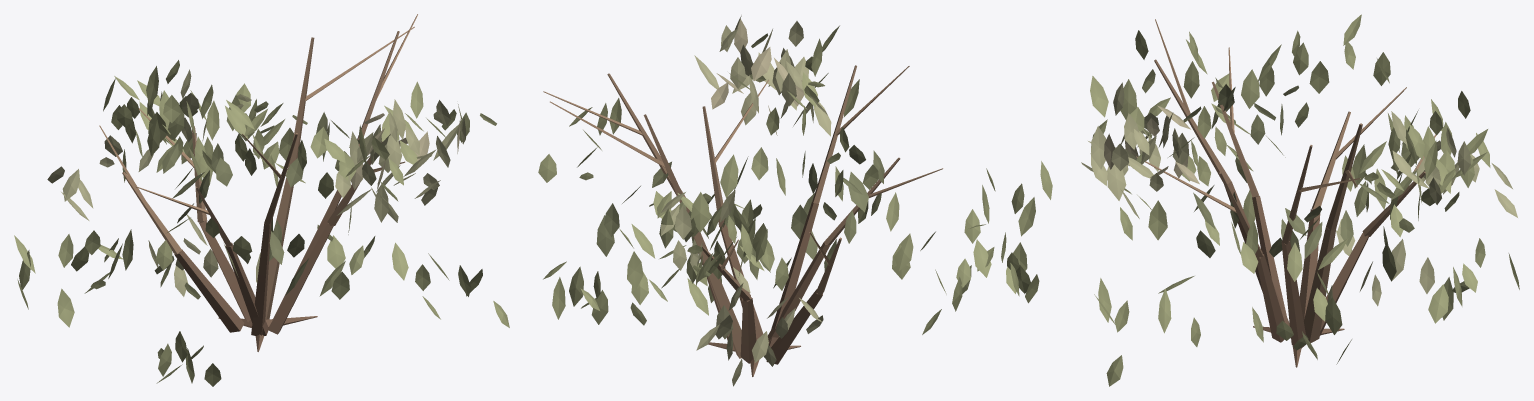
Rendered from bush_3d_06.glb.
The picture shows the model from 3 angles, left to right: view 1: azimuth 30°, elevation 25°; view 2: azimuth 150°, elevation 25°; view 3: azimuth 270°, elevation 25°; orthographic projection. The views are drawn at different scales.
Parts seen in each view (by area): view 1: bush_3d_06_foliage, bush_3d_06_wood; view 2: bush_3d_06_foliage, bush_3d_06_wood; view 3: bush_3d_06_foliage, bush_3d_06_wood.
Part boxes in pixels (x1,y1,x2,y2): bush_3d_06_foliage: (14, 60, 509, 386); bush_3d_06_wood: (99, 14, 417, 351); bush_3d_06_foliage: (538, 15, 1052, 386); bush_3d_06_wood: (543, 65, 943, 376); bush_3d_06_foliage: (1081, 14, 1519, 386); bush_3d_06_wood: (1136, 19, 1436, 367).
Size of the model in its own units: 3.5 by 1.9 by 2.7.
